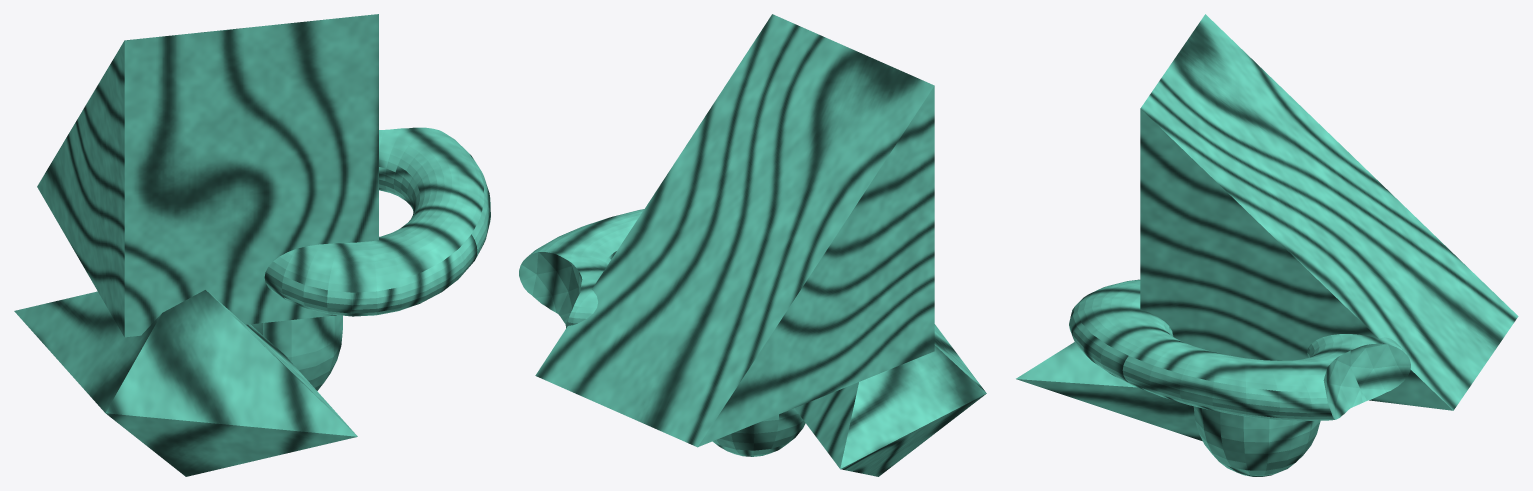
The picture shows the model from 3 angles, left to right: view 1: azimuth 30°, elevation 25°; view 2: azimuth 150°, elevation 25°; view 3: azimuth 270°, elevation 25°; orthographic projection. The views are drawn at different scales.
Visible parts, largest first — view 1: geometry_0; view 2: geometry_0; view 3: geometry_0.
Part boxes in pixels (bbox=[...]): geometry_0: bbox=[14, 14, 490, 476]; geometry_0: bbox=[519, 14, 986, 476]; geometry_0: bbox=[1016, 14, 1518, 476].
Size of the model in its own units: 1.83 by 1.82 by 2.07.
Materials: 1 (1 with a texture image).
